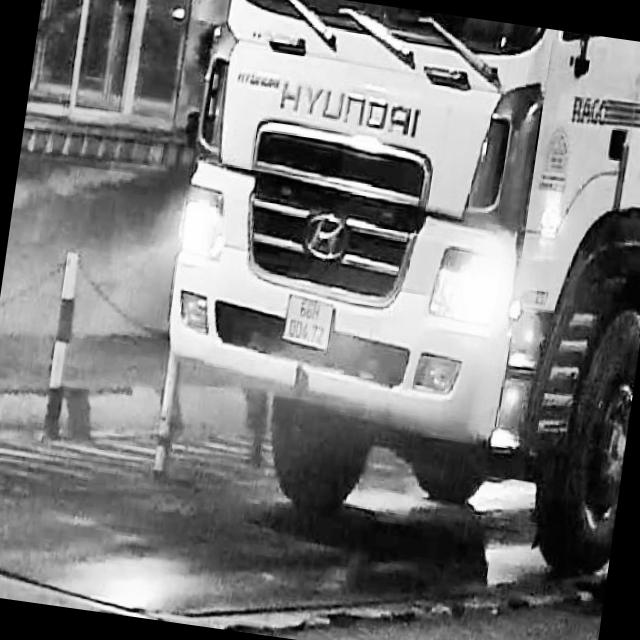Truck: (135, 0, 640, 583)
